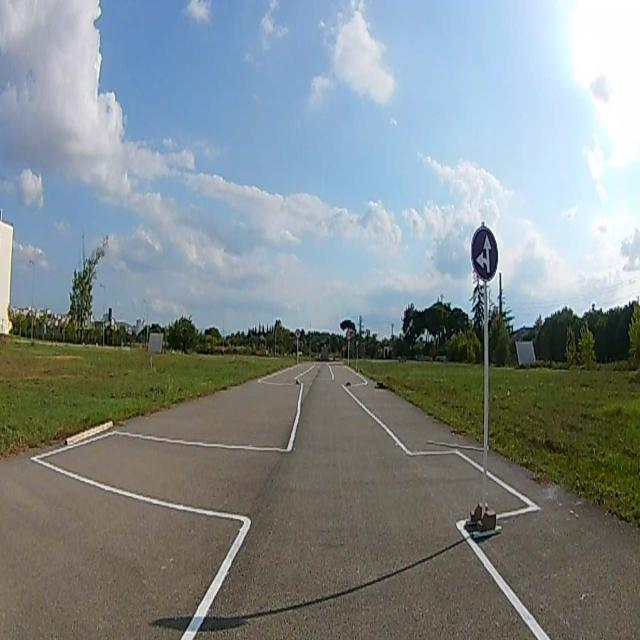ilerisol: (472, 228, 498, 276)
